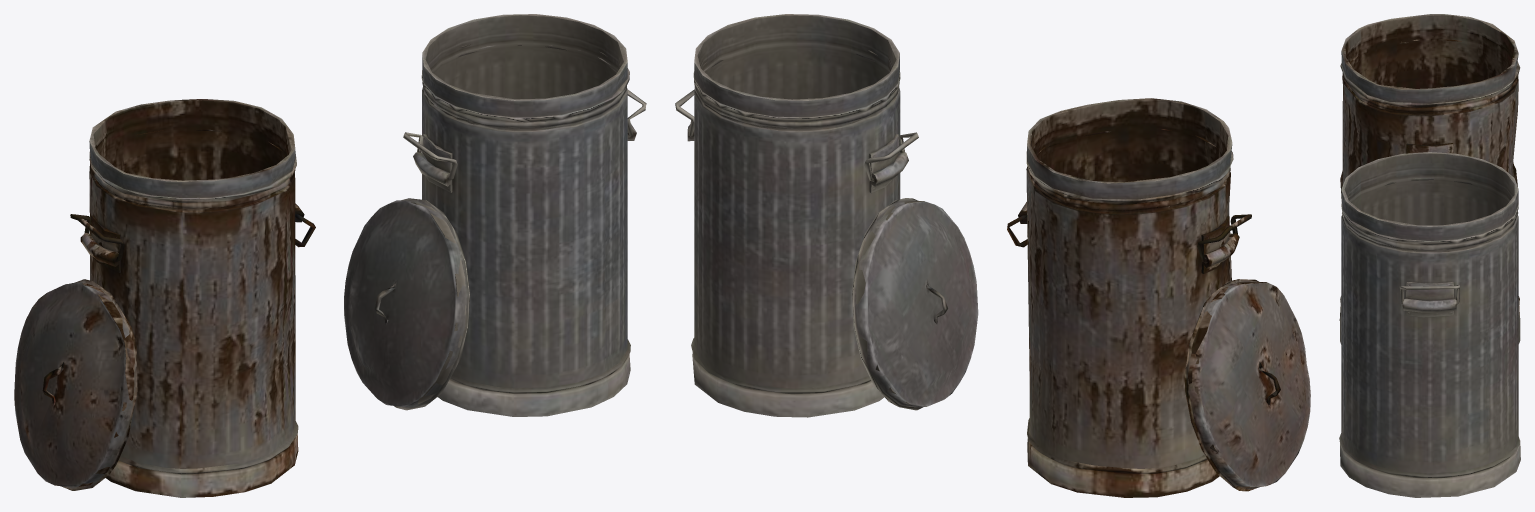
File: metal_trash_can.glb
3 renders of one model, left to right at view 1: azimuth 30°, elevation 25°; view 2: azimuth 150°, elevation 25°; view 3: azimuth 270°, elevation 25°, orthographic. The views are drawn at different scales.
Parts seen in each view (by area): view 1: metal_trash_can_handle_left, metal_trash_can_rust; view 2: metal_trash_can_handle_left, metal_trash_can_rust; view 3: metal_trash_can_handle_left, metal_trash_can_rust.
Part boxes in pixels (left/top/right/bottom): metal_trash_can_handle_left: left=344, top=14, right=646, bottom=416; metal_trash_can_rust: left=14, top=99, right=315, bottom=497; metal_trash_can_handle_left: left=675, top=14, right=978, bottom=417; metal_trash_can_rust: left=1007, top=98, right=1310, bottom=497; metal_trash_can_handle_left: left=1339, top=152, right=1520, bottom=497; metal_trash_can_rust: left=1339, top=14, right=1520, bottom=320.
Bounding box in the file's own units: 1.78 × 0.9062 × 0.5519.
Materials: 2 (2 with a texture image).
